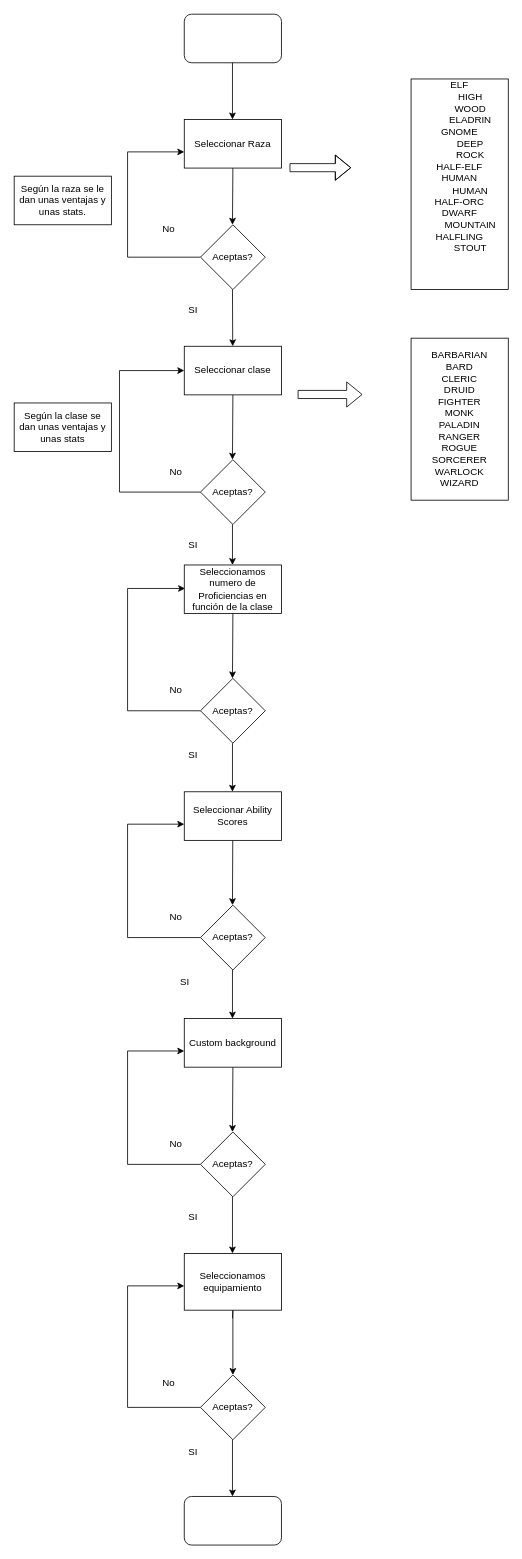
The diagram is 522 pixels wide and 1559 high, and some of its shapes have lost their labels. The box of each missing label's shape, as (x1, y1, x2, y2) in pixels:
Fin: (183, 1496, 281, 1545)
Inicio: (183, 13, 281, 63)
